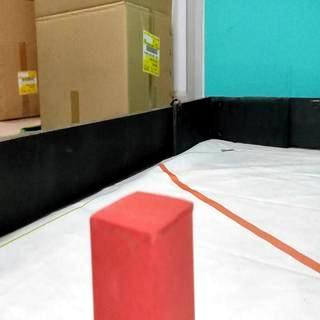redbox: (88, 191, 194, 320)
